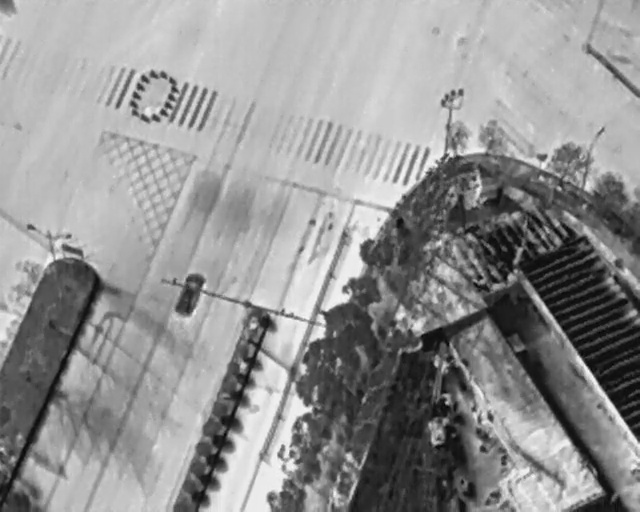Car: (171, 268, 208, 321)
